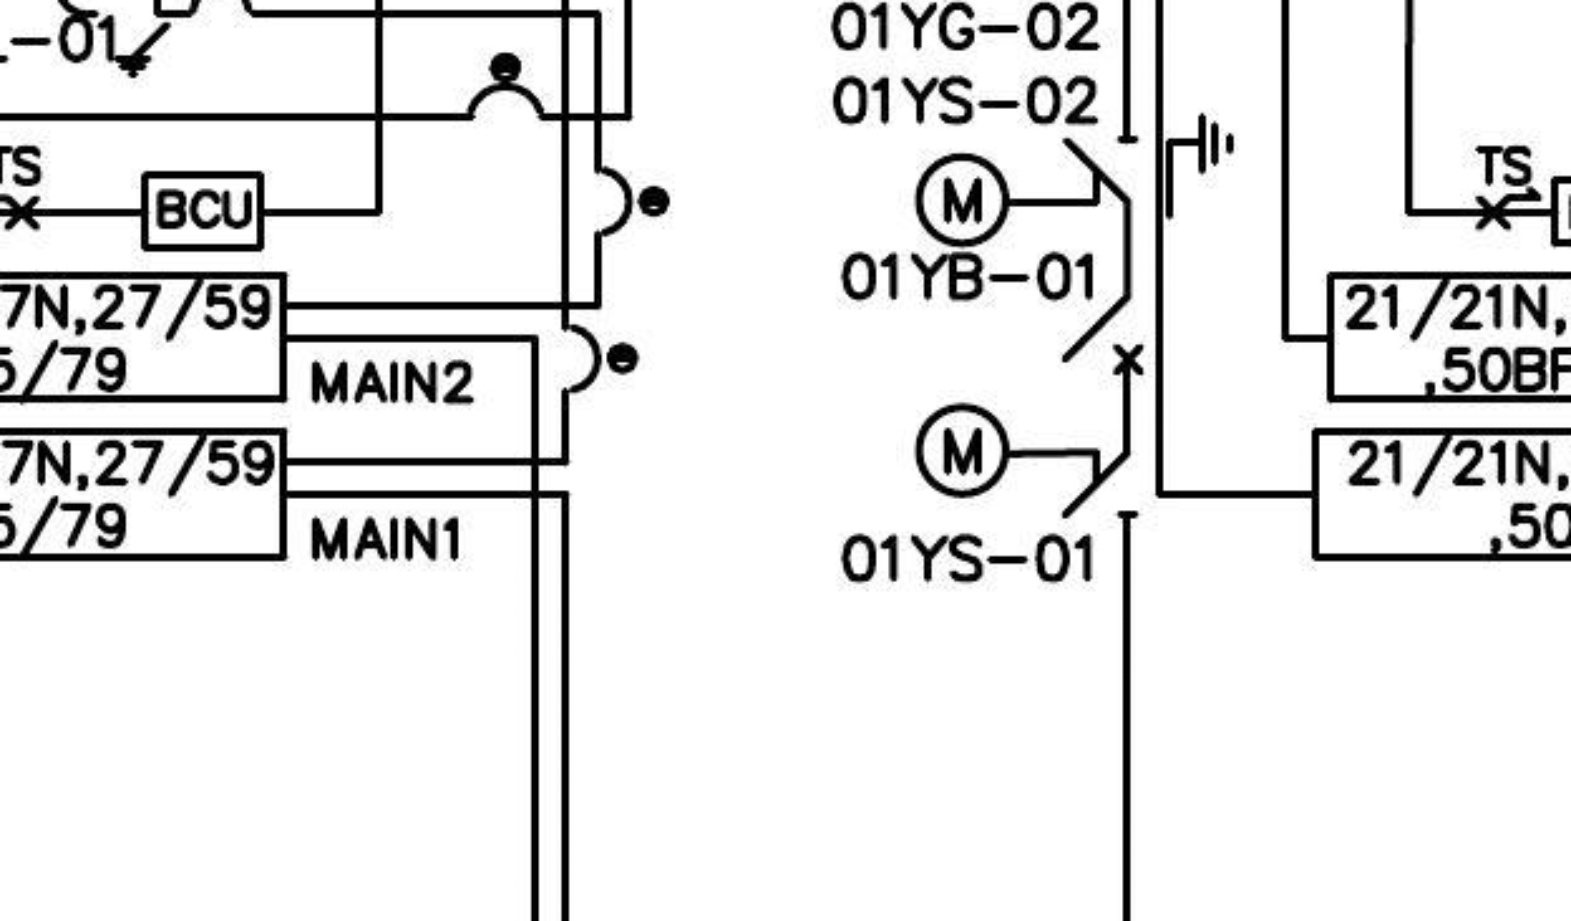115_1way_ds_w_motor: (913, 401, 1141, 520)
115_3ways_ds_w_motor: (913, 112, 1236, 249)
115_breaker: (1061, 294, 1145, 376)
BCU: (139, 170, 266, 253)
